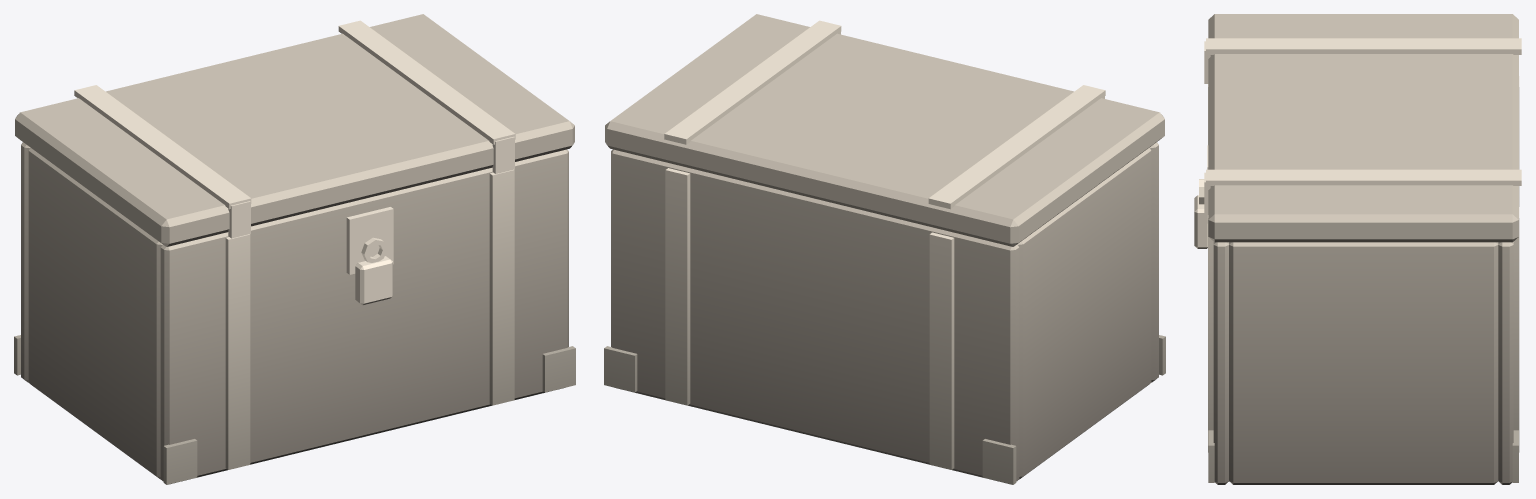
Rendered from SM_VKI_Prop_Chest_Iron.fbx.
The picture shows the model from 3 angles, left to right: view 1: azimuth 30°, elevation 25°; view 2: azimuth 150°, elevation 25°; view 3: azimuth 270°, elevation 25°; orthographic projection.
Parts seen in each view (by area): view 1: SM_VKI_Prop_Chest_Iron.001; view 2: SM_VKI_Prop_Chest_Iron.001; view 3: SM_VKI_Prop_Chest_Iron.001.
Part boxes in pixels (bbox=[...]): SM_VKI_Prop_Chest_Iron.001: bbox=[14, 14, 575, 484]; SM_VKI_Prop_Chest_Iron.001: bbox=[604, 14, 1165, 484]; SM_VKI_Prop_Chest_Iron.001: bbox=[1194, 14, 1521, 484].
Bounding box in the file's own units: 0.94 × 0.59 × 0.632.
